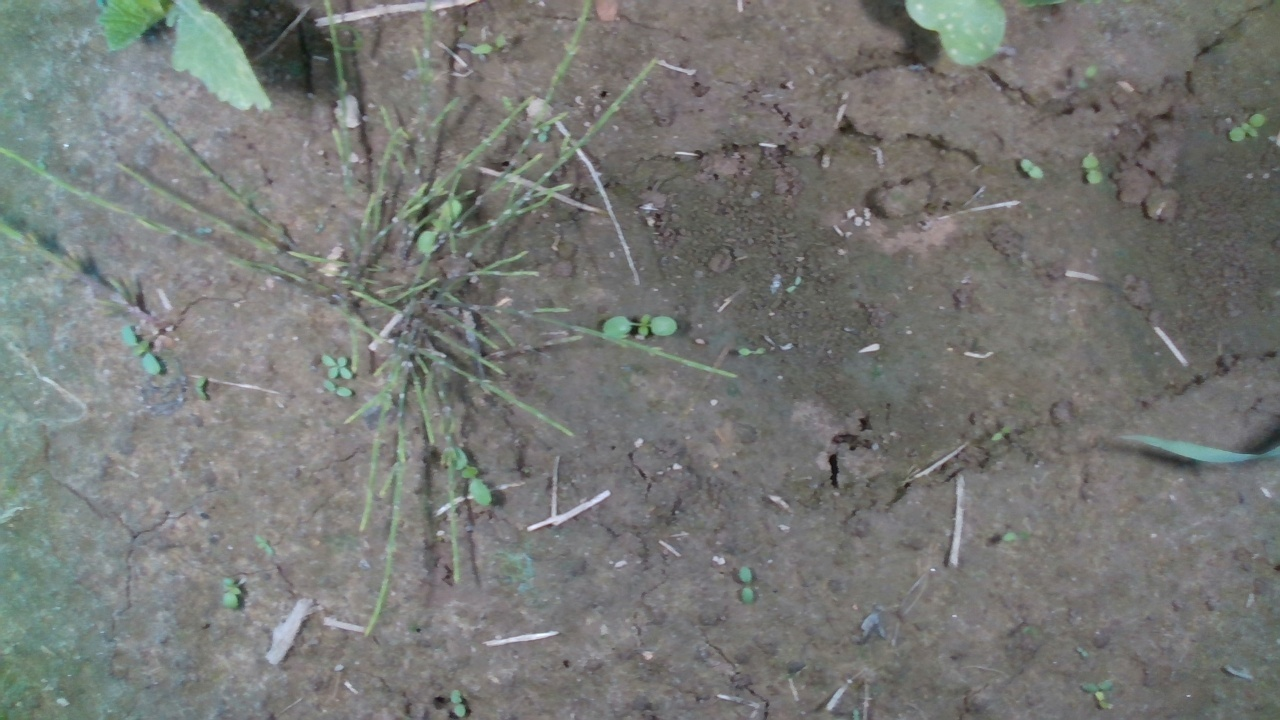weed: (120, 324, 162, 379), (220, 574, 242, 612), (1079, 154, 1104, 186), (737, 564, 755, 605), (1019, 157, 1045, 180), (448, 687, 466, 719), (192, 372, 210, 403), (254, 532, 275, 558), (990, 422, 1013, 443), (737, 345, 767, 358)
